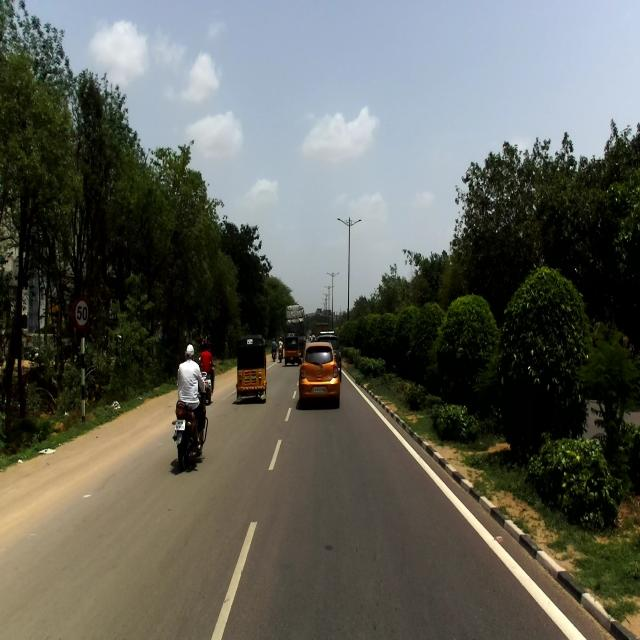Car_Nissan: (298, 341, 340, 407)
motorcycle_Honda: (171, 381, 208, 471)
